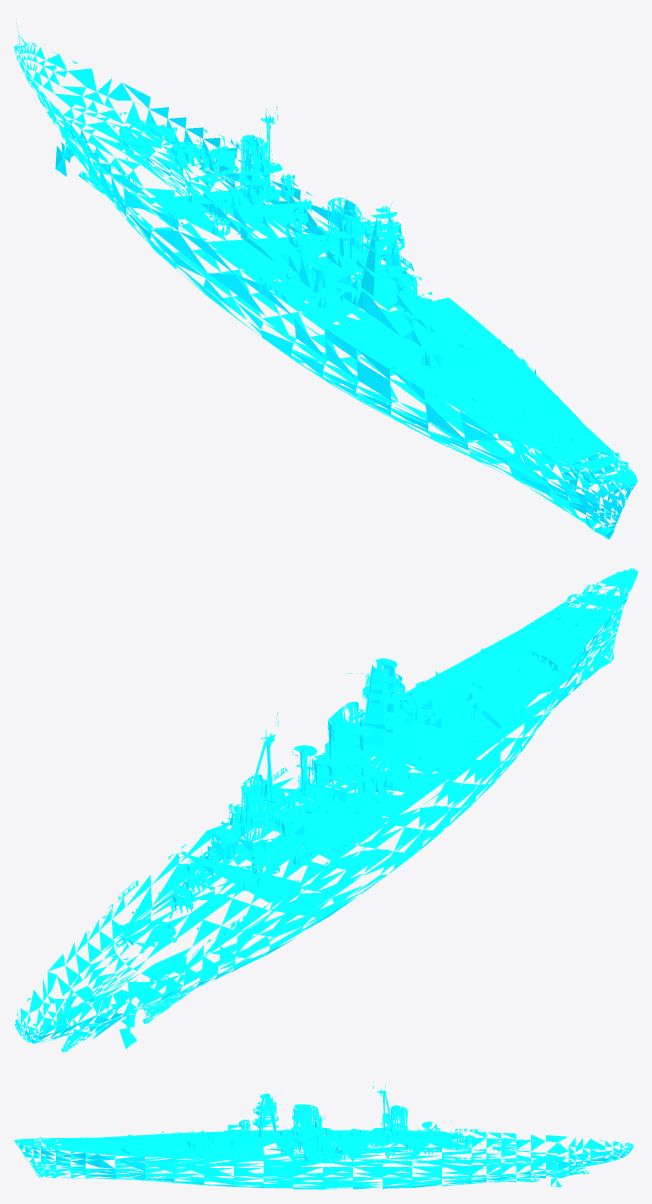
Rendered from Kronshtadt.glb.
The picture shows the model from 3 angles, top to bottom: view 1: azimuth 30°, elevation 25°; view 2: azimuth 150°, elevation 25°; view 3: azimuth 270°, elevation 25°; orthographic projection. The views are drawn at different scales.
Size of the model in its own units: 2.09 by 2.88 by 16.81.
